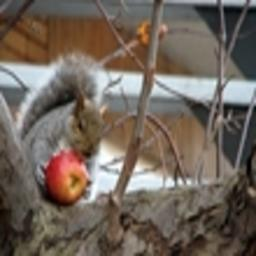apple: (44, 148, 86, 205)
